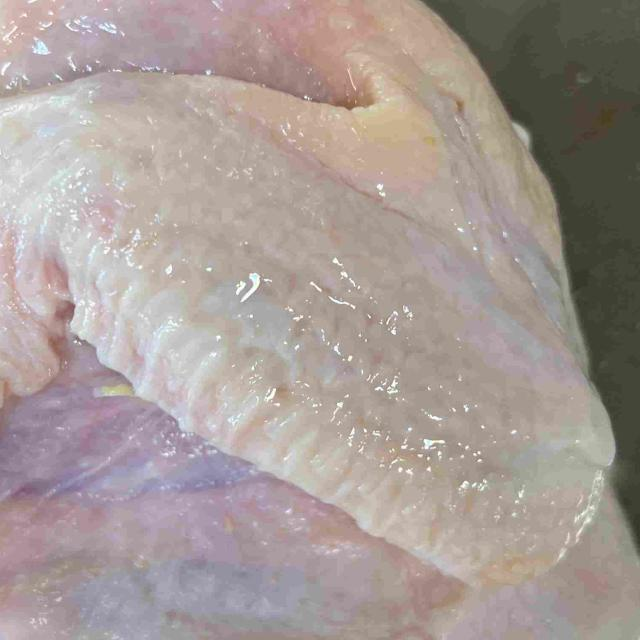wing: (0, 72, 607, 585)
